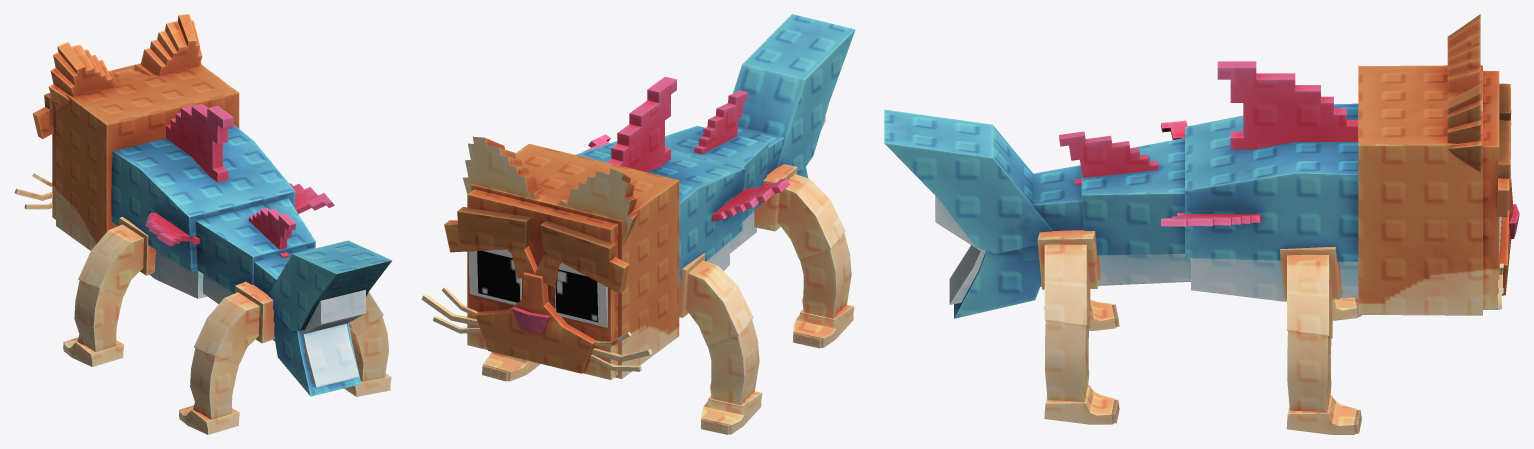
Rendered from Trulimero Trulicina.fbx.
The picture shows the model from 3 angles, left to right: view 1: azimuth 30°, elevation 25°; view 2: azimuth 150°, elevation 25°; view 3: azimuth 270°, elevation 25°; orthographic projection. The views are drawn at different scales.
Parts seen in each view (by area): view 1: Trulimero Trulicina; view 2: Trulimero Trulicina; view 3: Trulimero Trulicina.
Boxes of the visible parts, left/top/right/bottom form: Trulimero Trulicina: left=14, top=14, right=392, bottom=434; Trulimero Trulicina: left=421, top=14, right=855, bottom=434; Trulimero Trulicina: left=884, top=14, right=1519, bottom=434.
Size of the model in its own units: 429 by 473 by 857.
